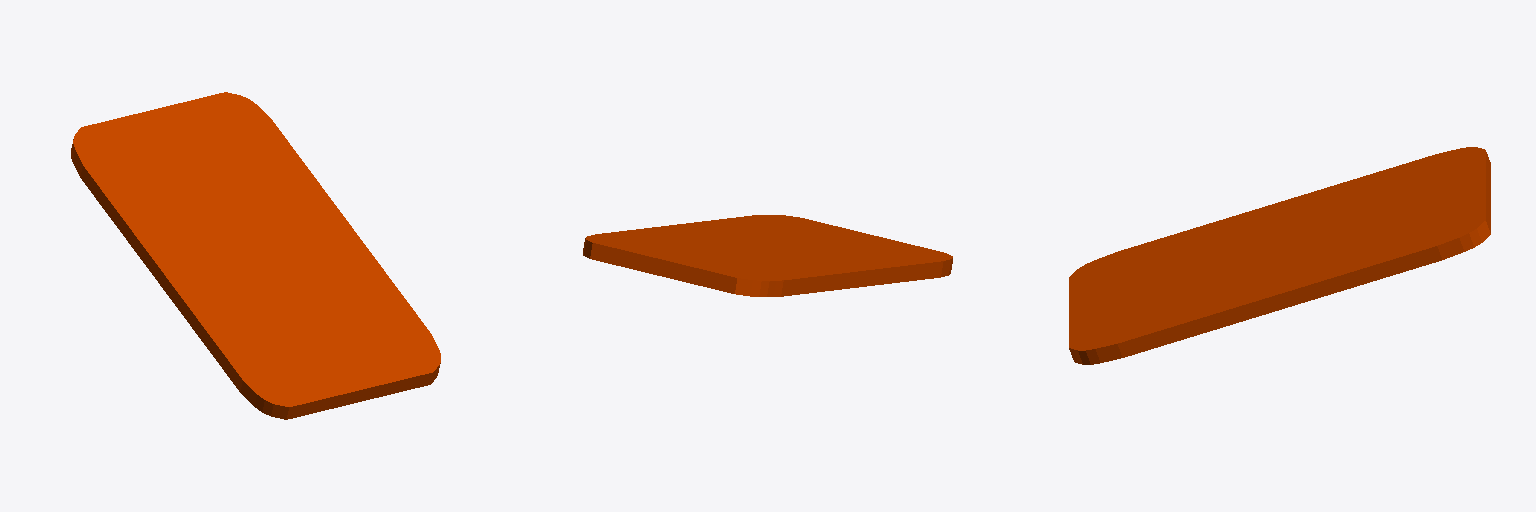
The model's file is solar.obj.
3 renders of one model, left to right at view 1: azimuth 30°, elevation 25°; view 2: azimuth 150°, elevation 25°; view 3: azimuth 270°, elevation 25°, orthographic.
Parts seen in each view (by area): view 1: Plane.002; view 2: Plane.002; view 3: Plane.002.
Part boxes in pixels (left/top/right/bottom): Plane.002: left=71, top=92, right=440, bottom=419; Plane.002: left=583, top=215, right=952, bottom=296; Plane.002: left=1069, top=147, right=1490, bottom=364.
Size of the model in its own units: 0.2743 by 0.1972 by 0.5316.